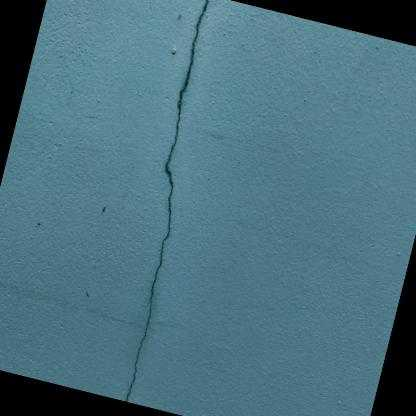crack: (124, 0, 208, 402)
